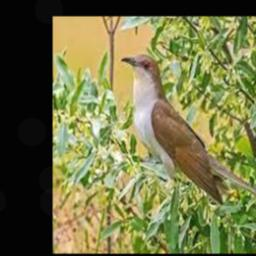Cuckoo: (119, 53, 256, 222)
